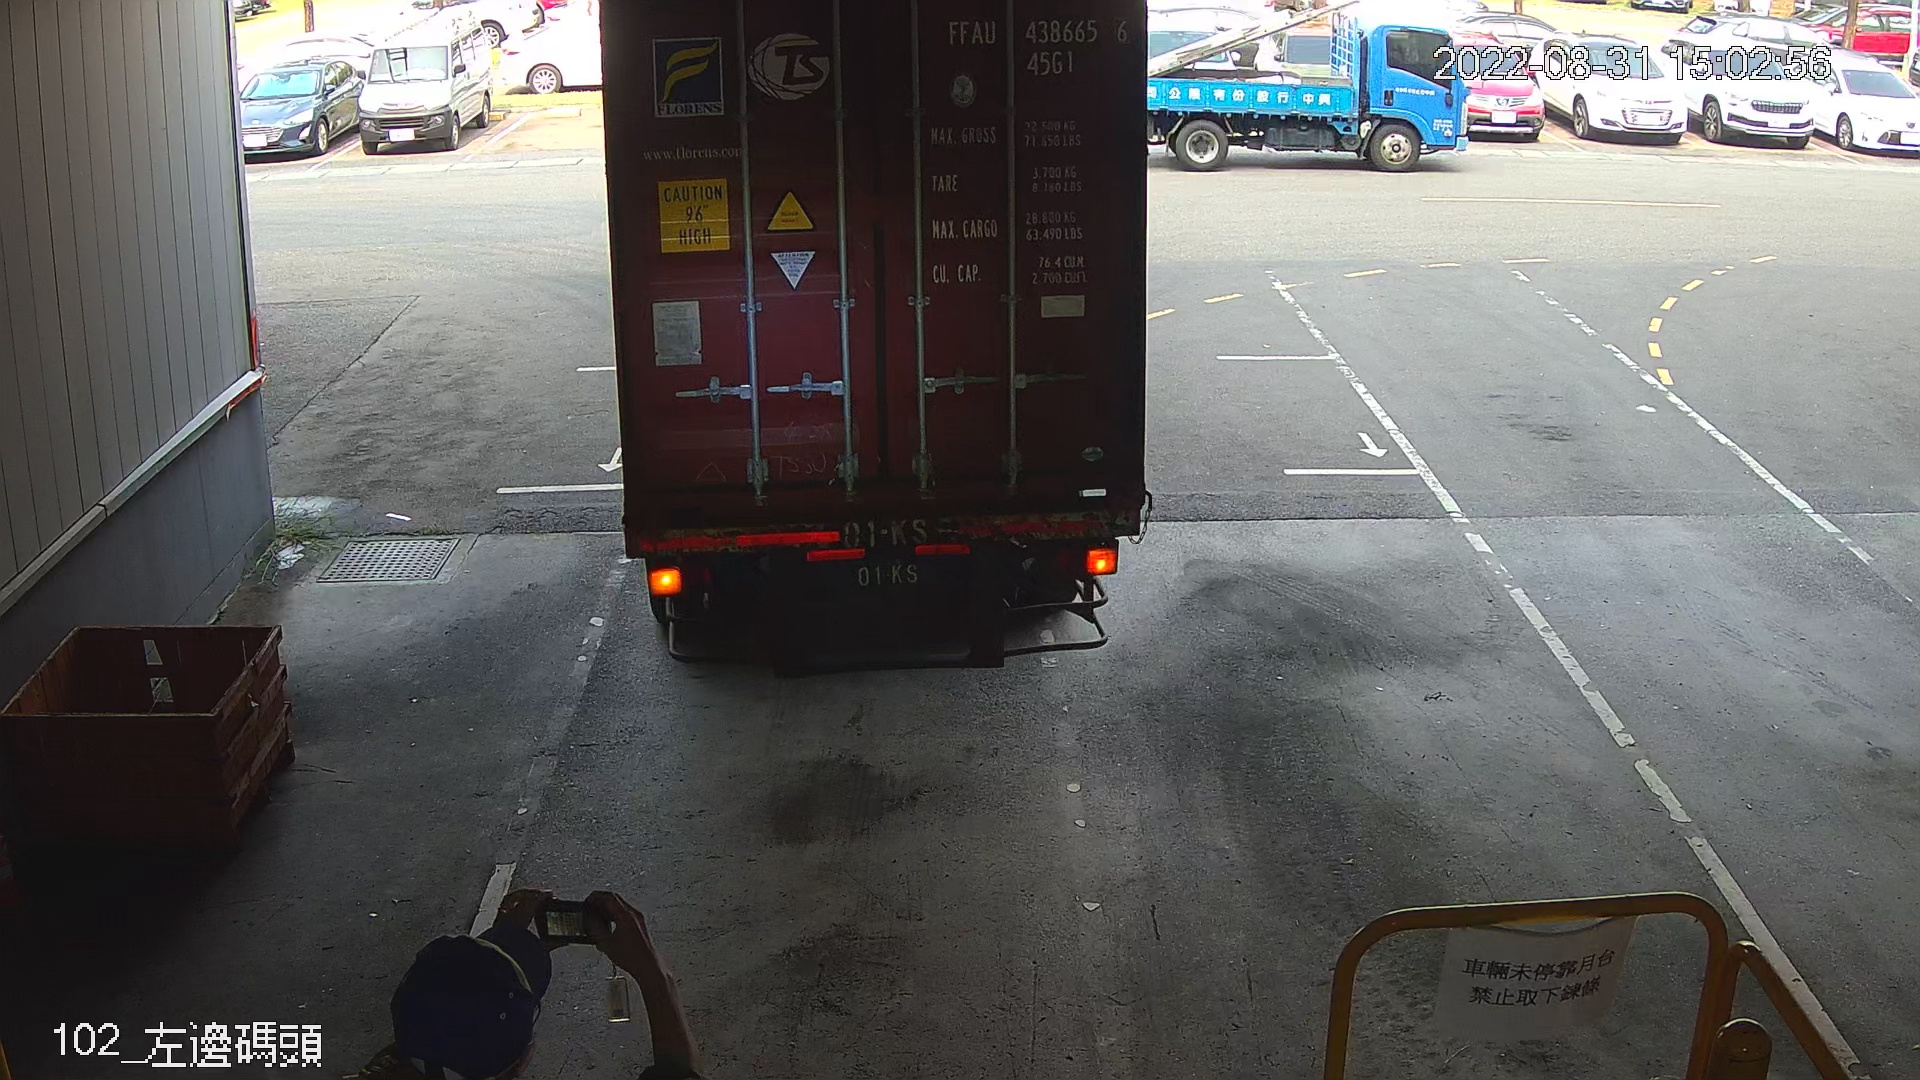container: (942, 11, 1139, 83)
